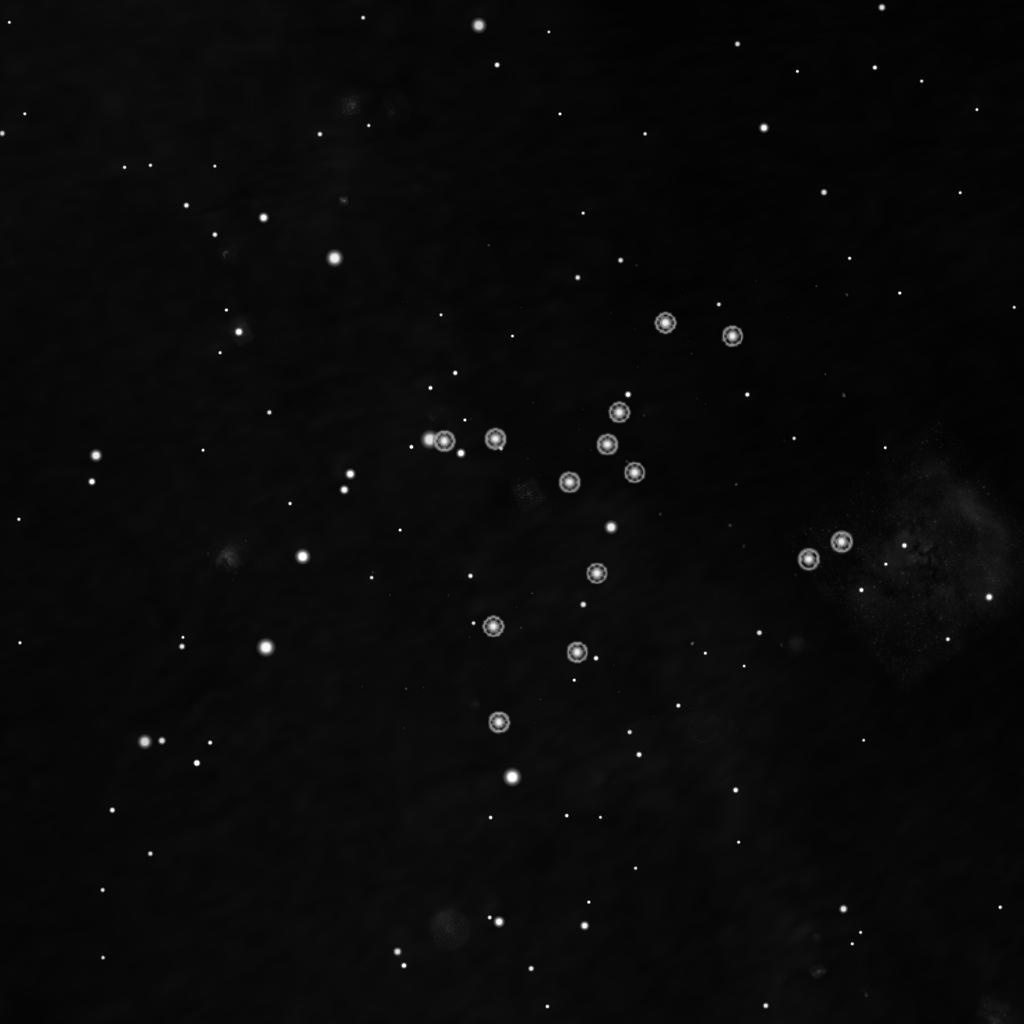canis_major: (552, 305, 747, 501)
